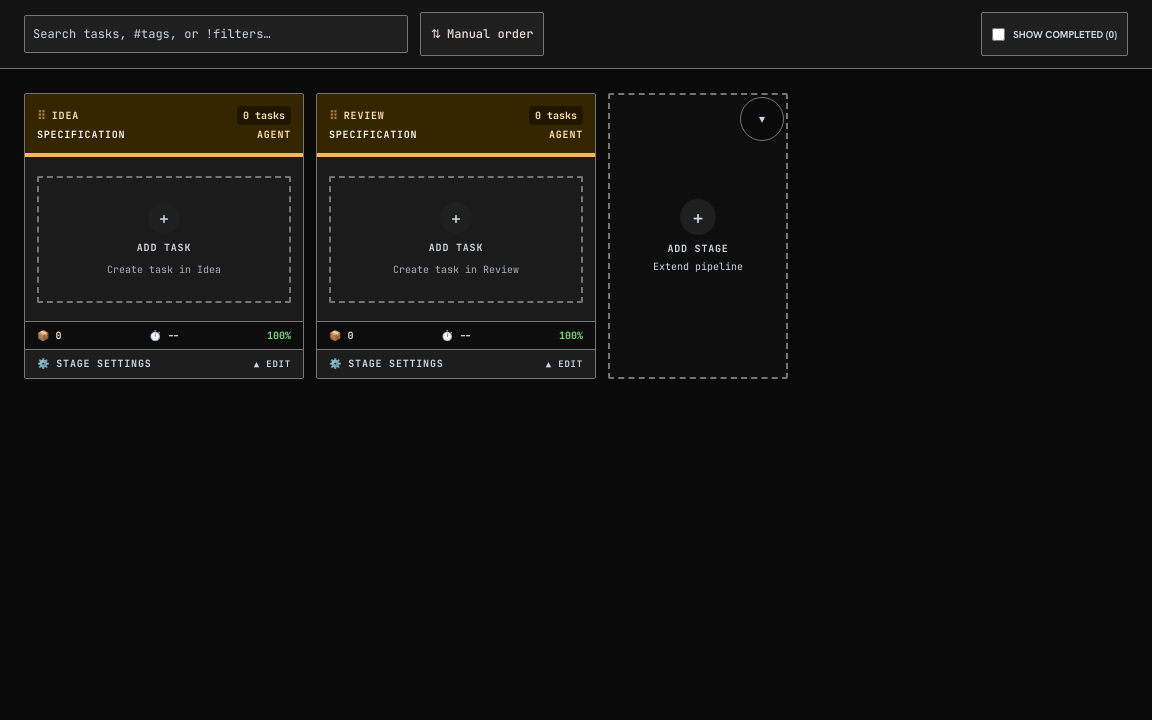
Test: opens in-column stage settings panel with fallback stage selector and pause stage helper (#9, #10, #11)
Click the button with aria-label "Configure stage Idea" at (104, 364), box [25,350,303,378]
(page scrolled)
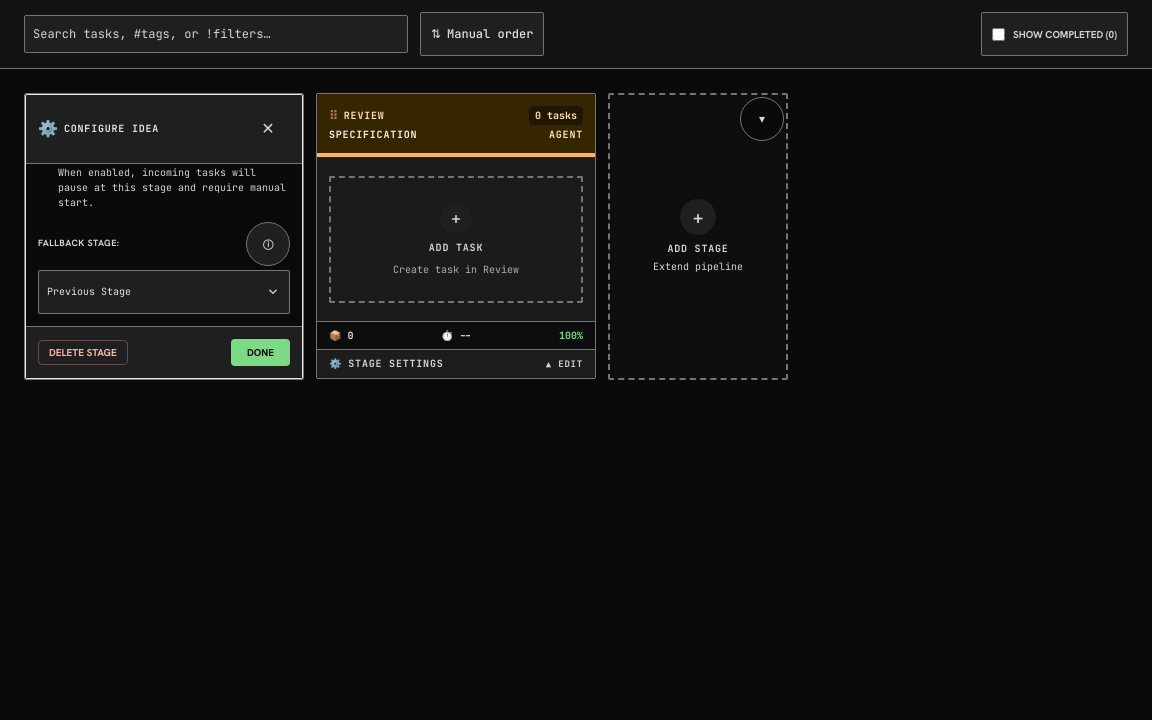
Expected: the text "Configure Idea" is shown, [64,123,159,135]
Expected: the text "When enabled, incoming tasks will pause at this stage and require manual start." is shown, [38,164,290,210]
Expected: the dropdown named "Fallback stage for Idea" is shown
Click the dropdown named "Fallback stage for Idea" at (164, 292), box [38,270,290,314]
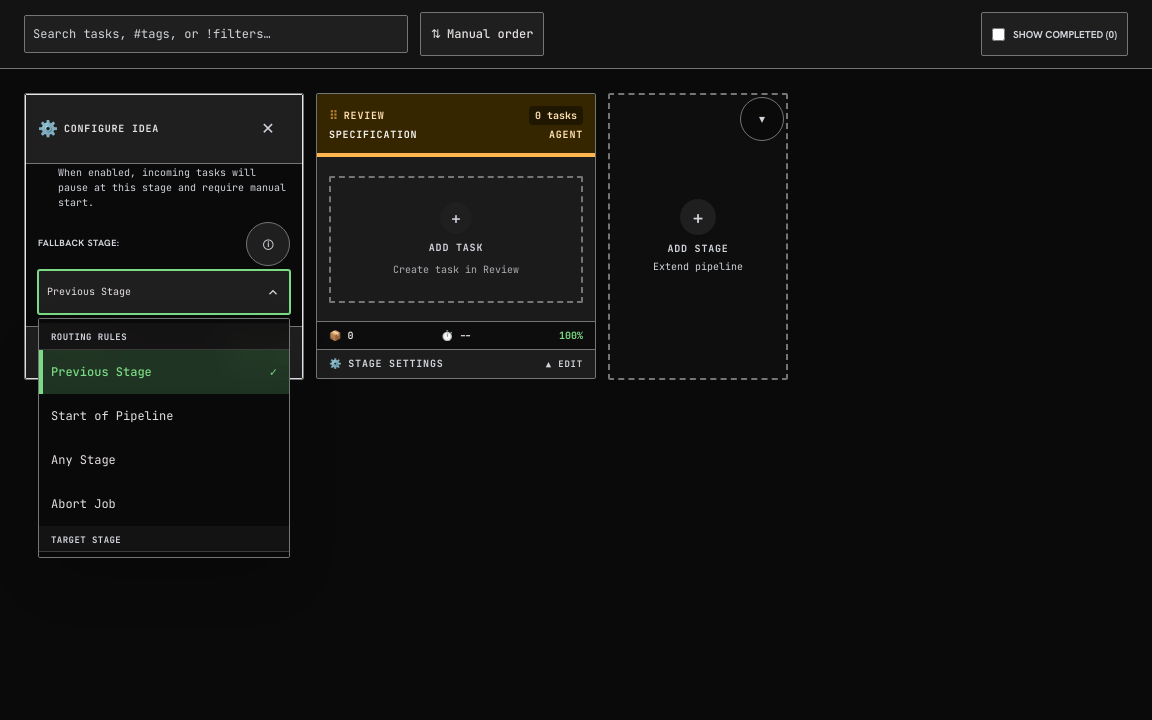
Expected: the option "Previous Stage ✓" is shown, [39,350,289,394]
Expected: the option "Start of Pipeline" is shown, [51,408,173,424]
Expected: the option "Any Stage" is shown, [51,452,116,468]
